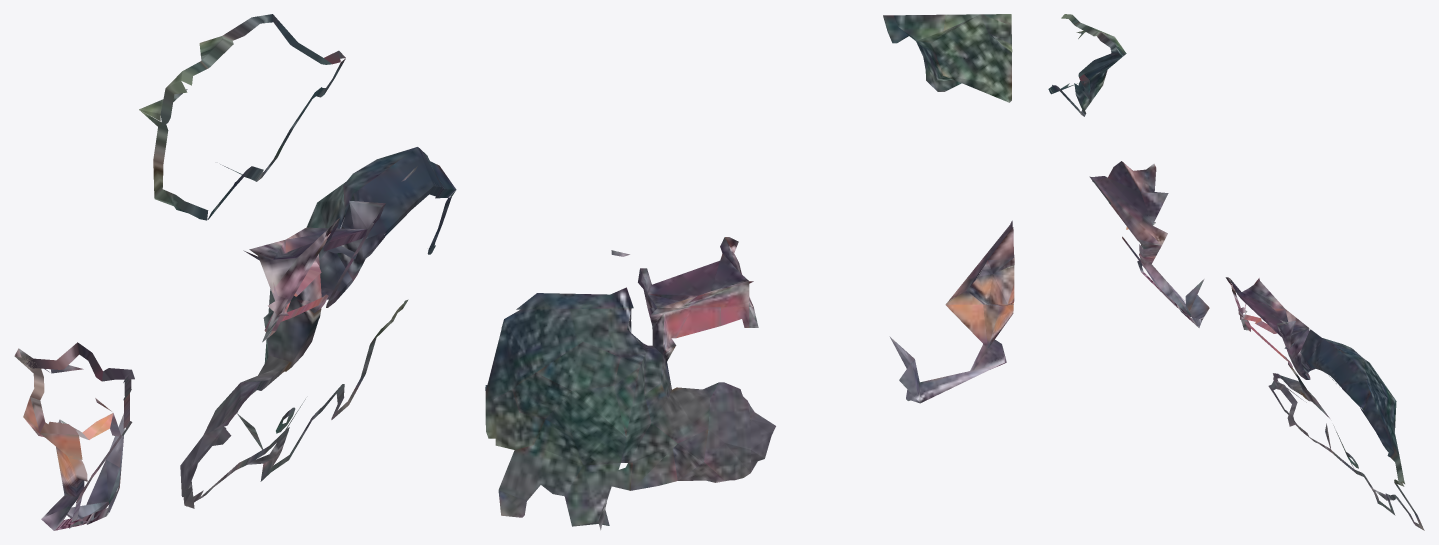
3 views of the same model, side by side, from view 1: azimuth 30°, elevation 25°; view 2: azimuth 150°, elevation 25°; view 3: azimuth 270°, elevation 25° (orthographic). The views are drawn at different scales.
Bounding box in the file's own units: 30.26 × 31.94 × 27.68.
Materials: 1 (1 with a texture image).
